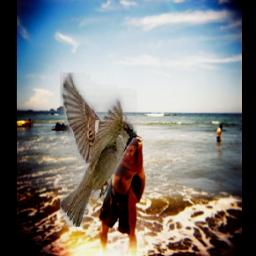Sparrow: (60, 74, 137, 228)
